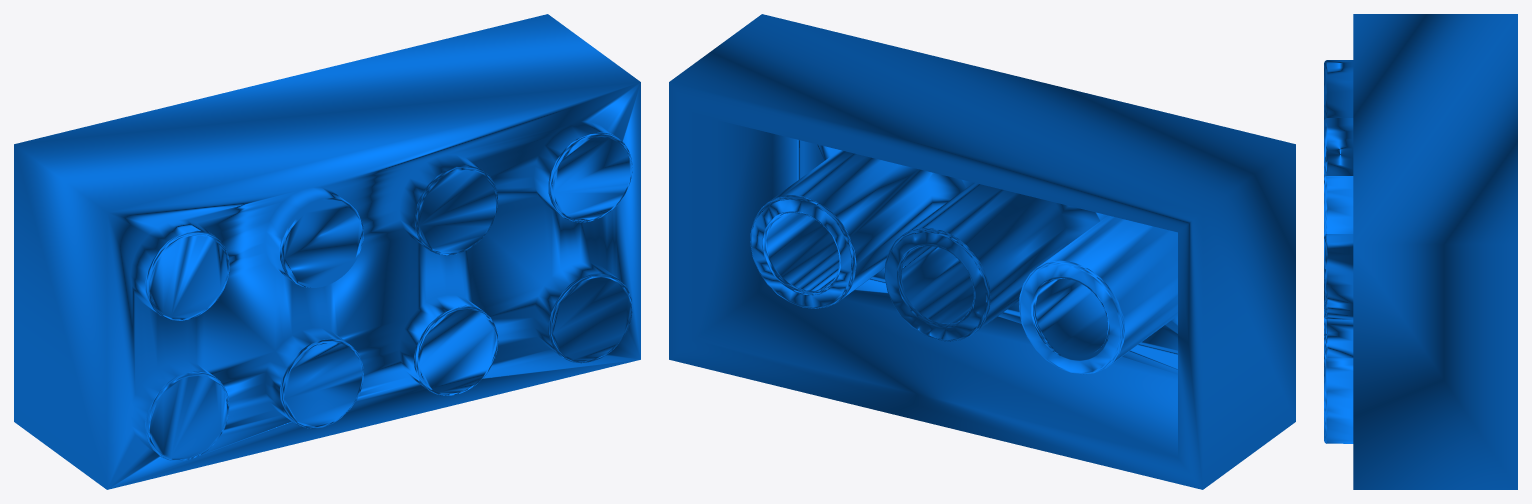
Rendered from lego_brick.dae.
The picture shows the model from 3 angles, left to right: view 1: azimuth 30°, elevation 25°; view 2: azimuth 150°, elevation 25°; view 3: azimuth 270°, elevation 25°; orthographic projection. The views are drawn at different scales.
Visible parts, largest first — view 1: Node_0x7f602aa39310; view 2: Node_0x7f602aa39310; view 3: Node_0x7f602aa39310.
Boxes of the visible parts, bbox=[...] form: Node_0x7f602aa39310: bbox=[14, 14, 640, 489]; Node_0x7f602aa39310: bbox=[669, 14, 1295, 489]; Node_0x7f602aa39310: bbox=[1324, 14, 1517, 489].
Bounding box in the file's own units: 0.9 × 0.4472 × 0.3198.
